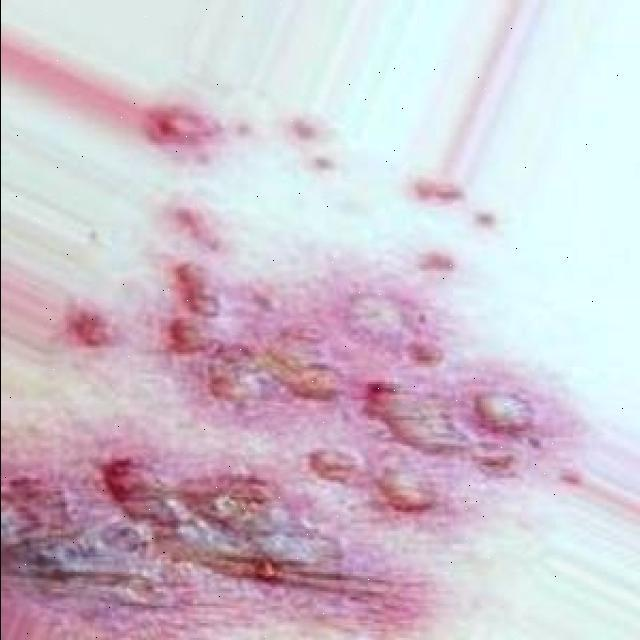Shingles: (58, 91, 548, 557)
